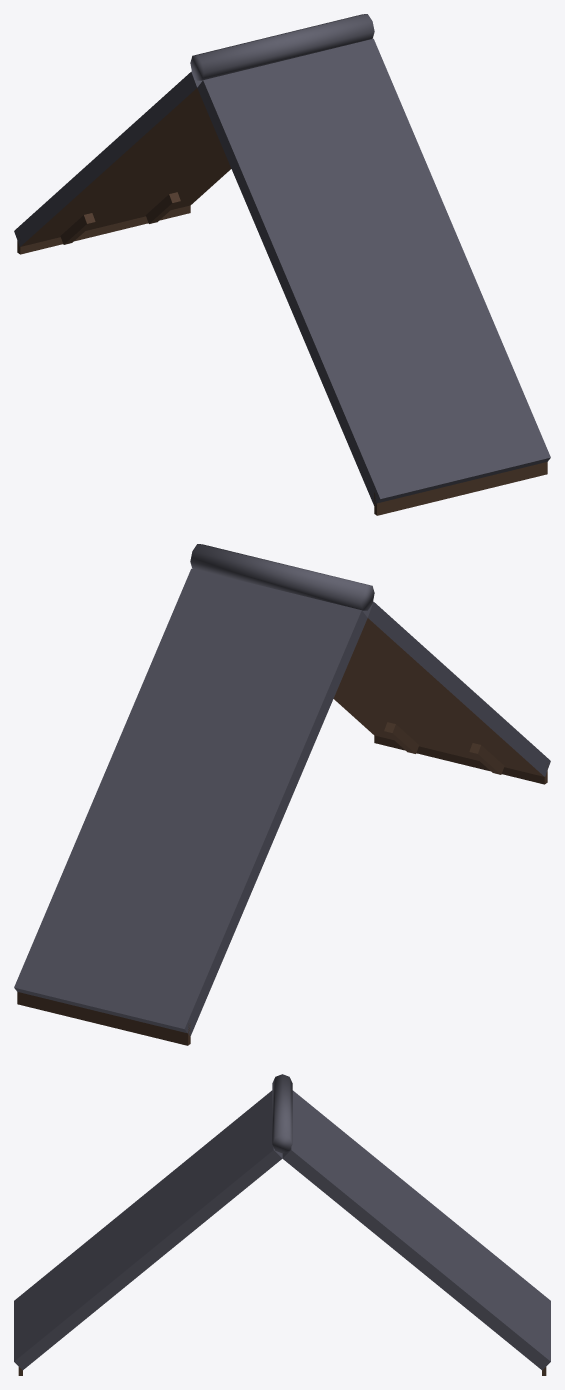
Rendered from kit_timber_slate_w3.glb.
The picture shows the model from 3 angles, top to bottom: view 1: azimuth 30°, elevation 25°; view 2: azimuth 150°, elevation 25°; view 3: azimuth 270°, elevation 25°; orthographic projection. The views are drawn at different scales.
Visible parts, largest first — view 1: kit_timber_slate_w3; view 2: kit_timber_slate_w3; view 3: kit_timber_slate_w3.
Boxes of the visible parts, x1,y1,x2,y2 form: kit_timber_slate_w3: (14,14,550,515); kit_timber_slate_w3: (14,544,550,1045); kit_timber_slate_w3: (14,1074,550,1375).
Size of the model in its own units: 1 by 1.84 by 3.72.
